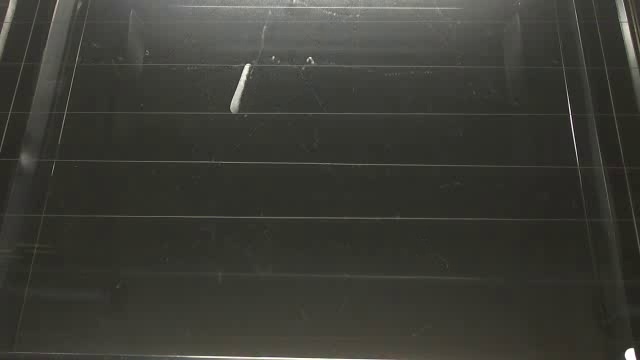Alfa: (224, 57, 252, 114)
